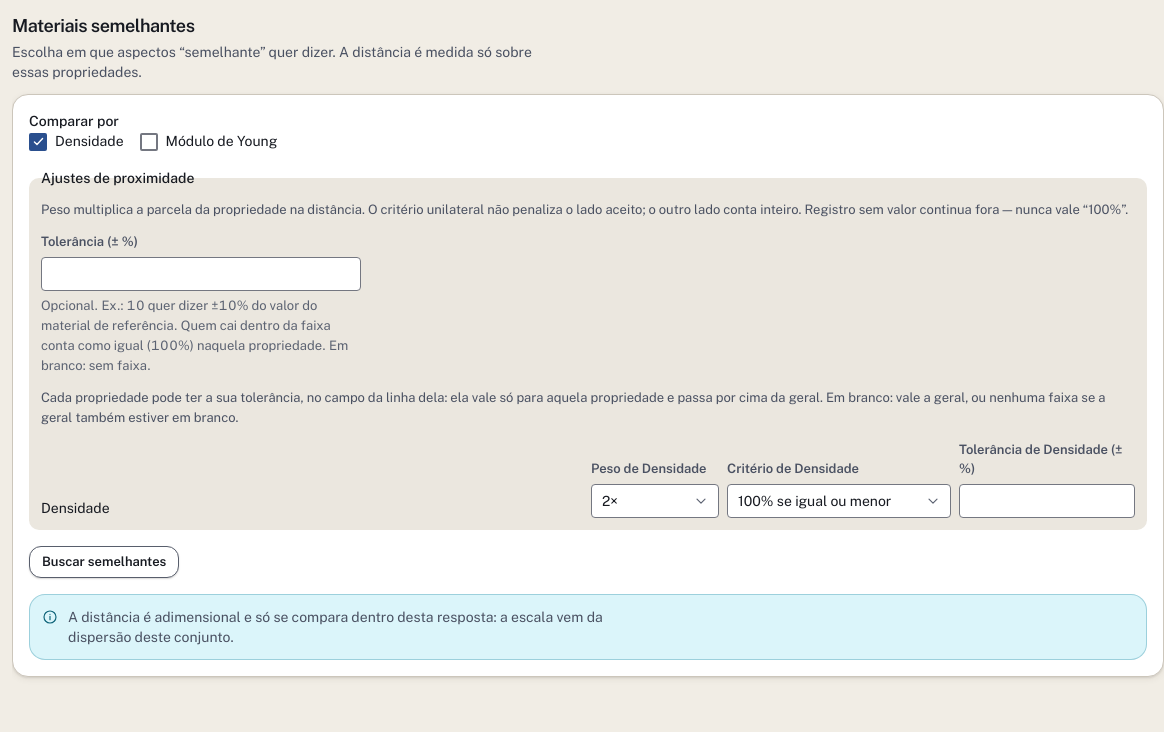
Test: materiais semelhantes › recusa a busca sem base, com o motivo escrito
What coordinates should you click on to do the following:
click the checkbox labelled "Densidade"
I would click on:
 (76, 142)
Its box is x1=29 y1=131 x2=124 y2=152.
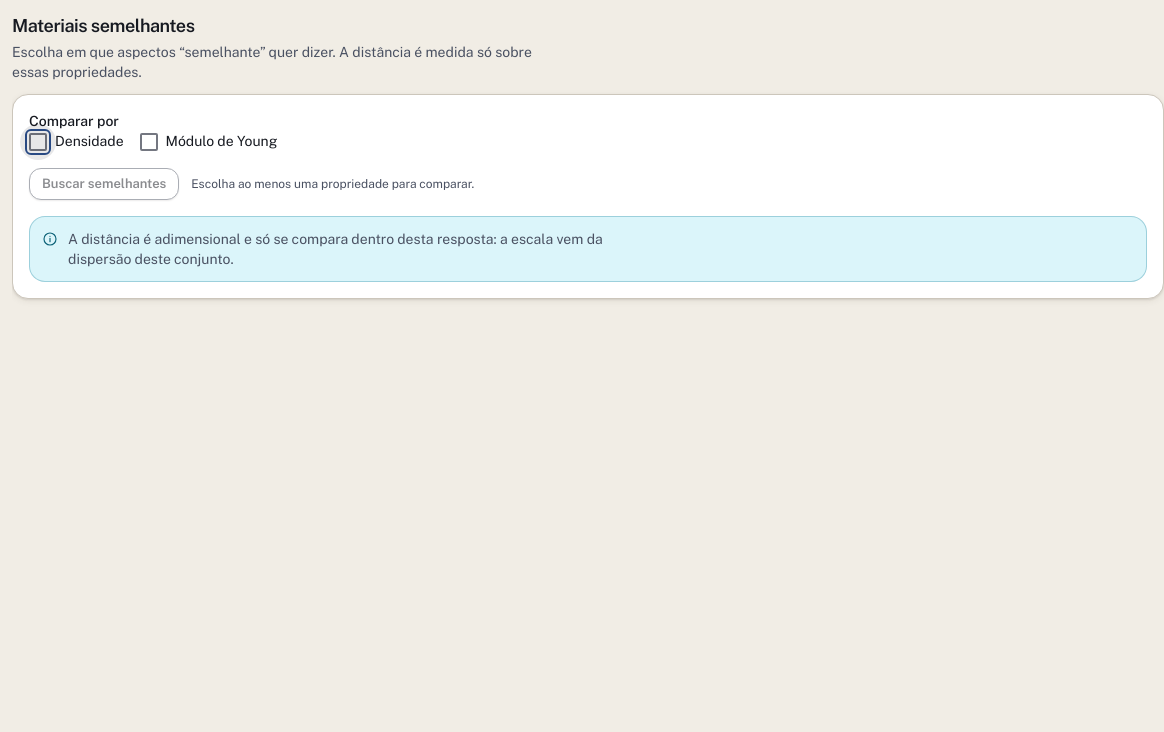
Expected: the text "Escolha ao menos uma propriedade para comparar." is shown, x1=191 y1=176 x2=474 y2=192
